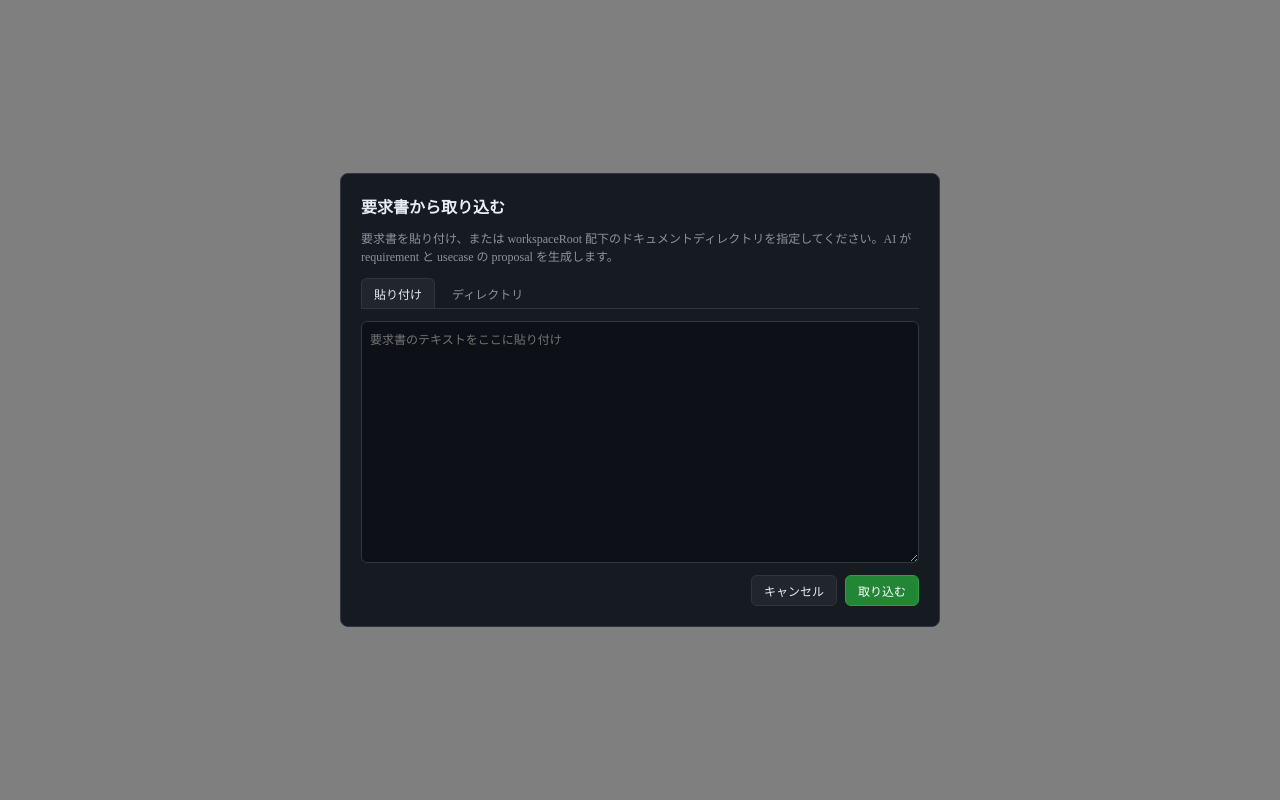
Test case: IngestDocumentDialog › 失敗時はテキスト保持 + エラー表示 + ダイアログ維持
Type "要求書" into the text box. click: point(640, 442)
box: [361,321,919,563]
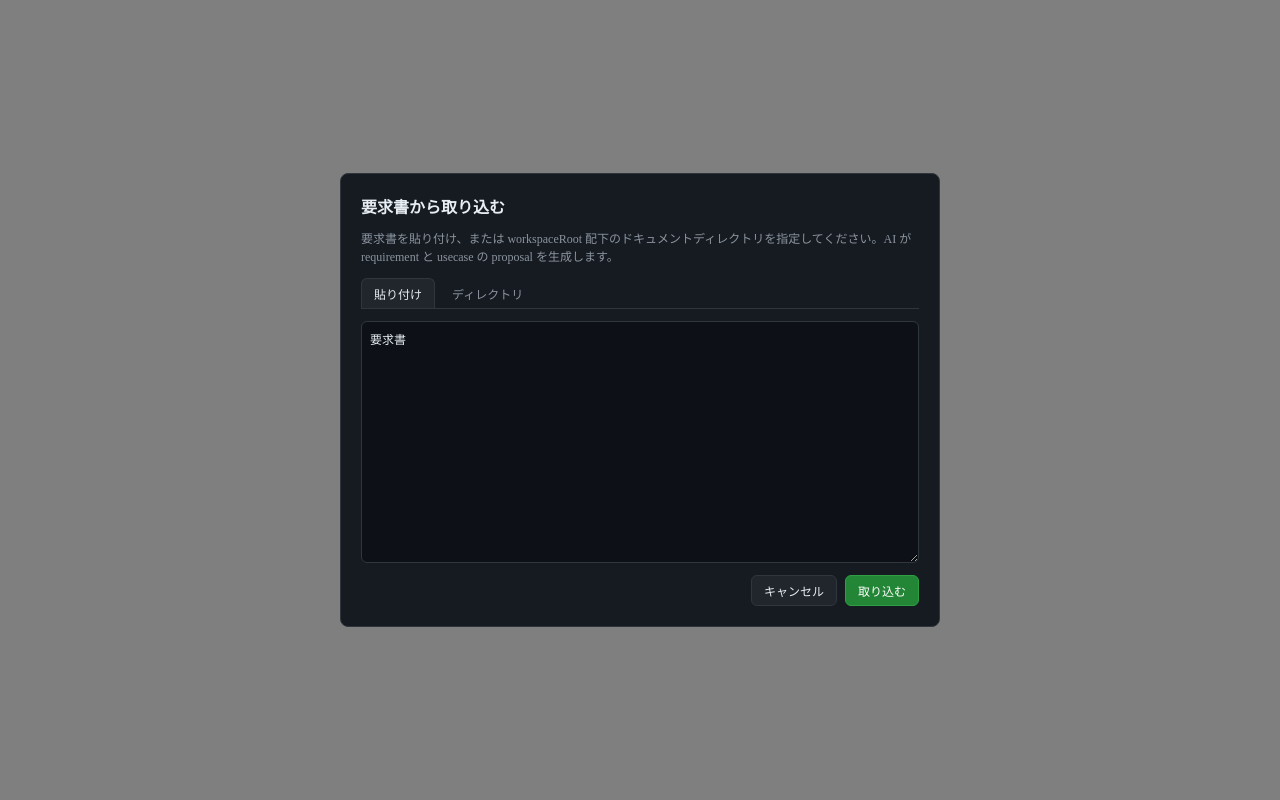
Click the button "取り込む". click: point(882, 590)
box: [845,575,919,606]
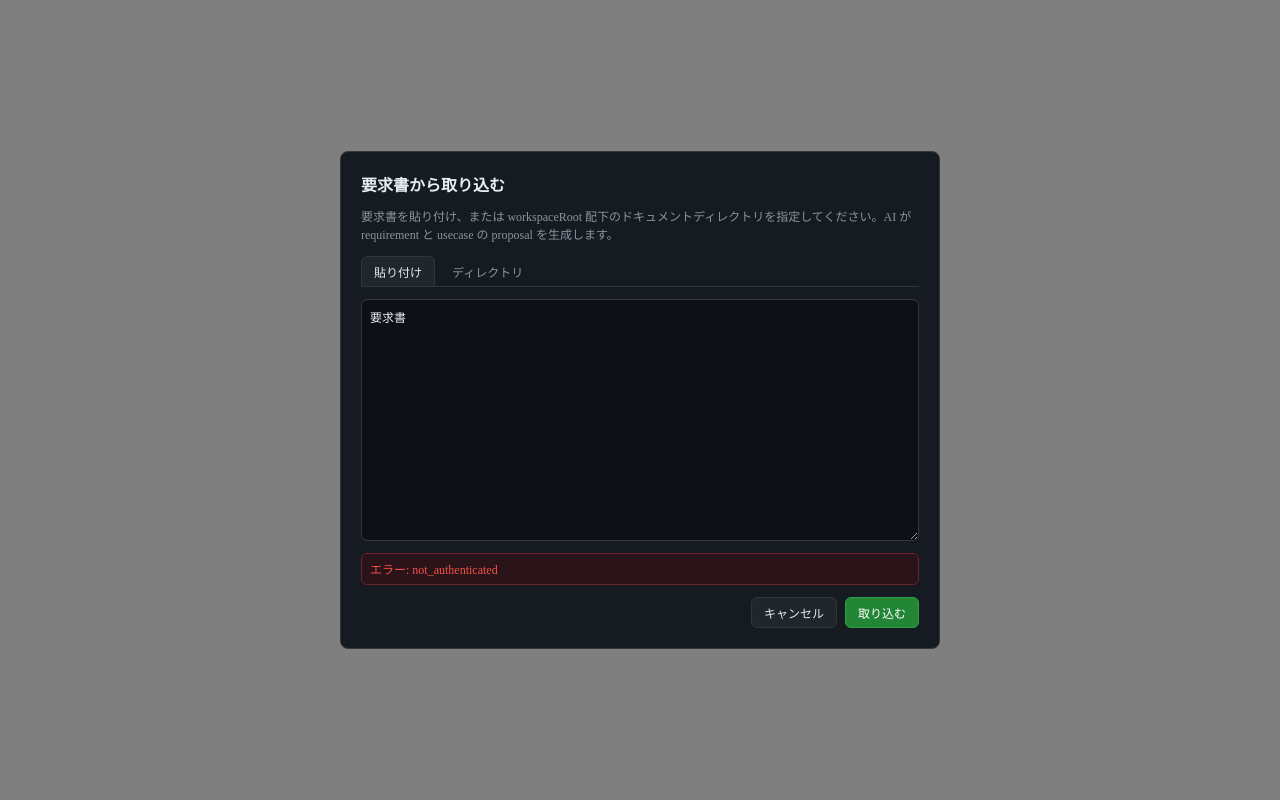
Result: the text "エラー: not_authenticated" is shown at [361,553,919,585]
